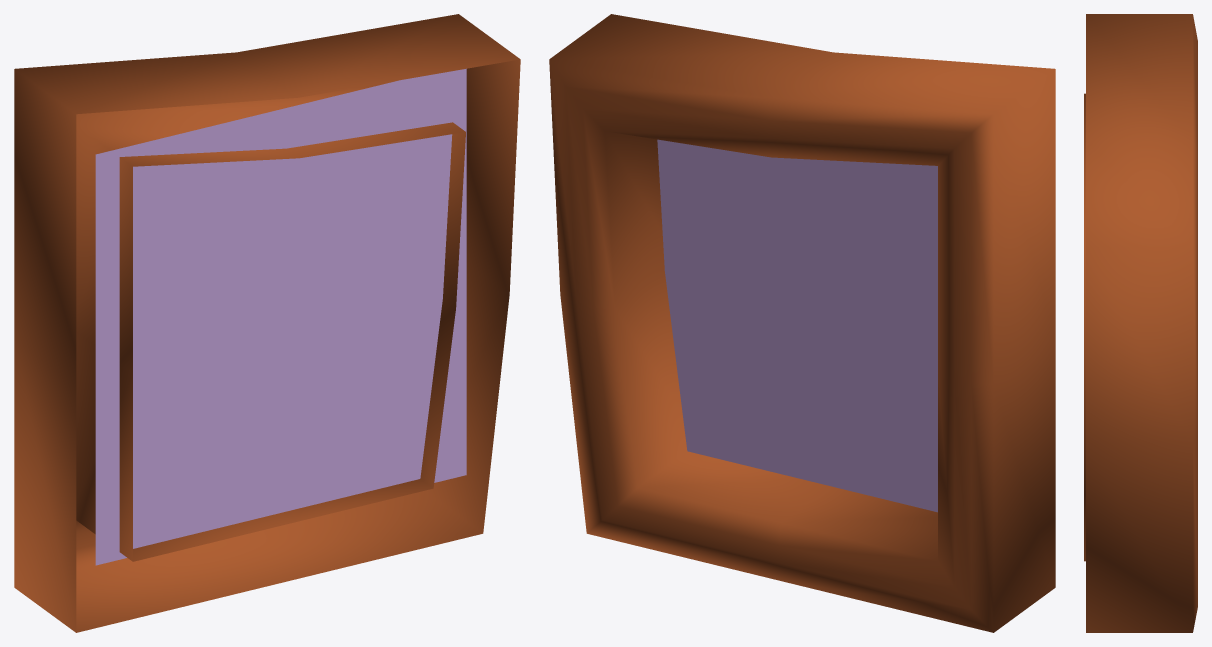
Rendered from props_wall_painting_frame_9.fbx.
3 views of the same model, side by side, from view 1: azimuth 30°, elevation 25°; view 2: azimuth 150°, elevation 25°; view 3: azimuth 270°, elevation 25° (orthographic). The views are drawn at different scales.
Visible parts, largest first — view 1: Cube.110; view 2: Cube.110; view 3: Cube.110.
Boxes of the visible parts, x1,y1,x2,y2 form: Cube.110: (14, 14, 520, 632); Cube.110: (549, 14, 1055, 632); Cube.110: (1084, 14, 1197, 632).
Bounding box in the file's own units: 0.7228 × 0.1857 × 0.8061.
